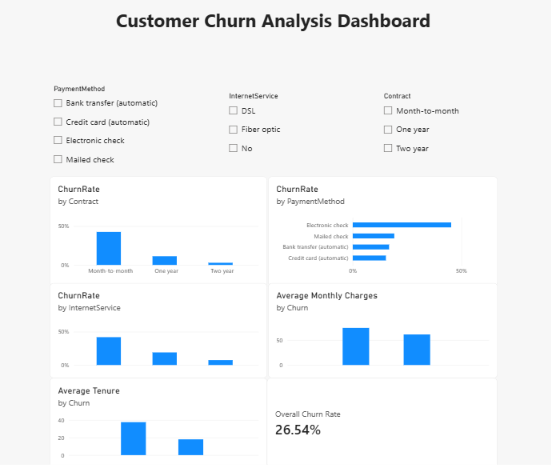

The page's visual inventory and layout, read from the dashboard file:
{"tool":"powerbi","page":{"name":"Page 1","canvas":[1920,1080],"ordinal":0},"visuals":[{"type":"clusteredColumnChart","fields":{"Y":["customer_churn.ChurnRate"],"Category":["customer_churn.Contract"]},"box":[470.7,487.8,441.5,222],"z":0},{"type":"clusteredBarChart","fields":{"Y":["customer_churn.ChurnRate"],"Category":["customer_churn.PaymentMethod"]},"box":[912.2,487.8,465.9,222],"z":1000},{"type":"clusteredColumnChart","fields":{"Category":["customer_churn.InternetService"],"Y":["customer_churn.ChurnRate"]},"box":[470.7,704.9,441.5,192.7],"z":2000},{"type":"clusteredColumnChart","fields":{"Y":["customer_churn.Average Monthly Charges"],"Category":["customer_churn.Churn"]},"box":[912.2,704.9,465.9,192.7],"z":3000},{"type":"clusteredColumnChart","fields":{"Y":["customer_churn.Average Tenure"],"Category":["customer_churn.Churn"]},"box":[470.7,897.6,441.5,182.9],"z":4000},{"type":"actionButton","box":[0,0,100,40],"z":7000},{"type":"cardVisual","title":"customer churn analysis","fields":{"Data":["customer_churn.Overall Churn Rate"]},"box":[909.8,897.6,468.3,182.9],"z":7001},{"type":"slicer","fields":{"Values":["customer_churn.PaymentMethod"]},"box":[470.7,300,356.1,187.8],"z":7002},{"type":"slicer","fields":{"Values":["customer_churn.InternetService"]},"box":[826.8,317.1,312.2,170.7],"z":7003},{"type":"slicer","fields":{"Values":["customer_churn.Contract"]},"box":[1139,317.1,287.8,170.7],"z":7004},{"type":"textbox","box":[470.7,143.9,907.3,87.8],"z":7005}]}

Visuals, with their boxes on the page's 1920x1080 design canvas (x1, y1, x2, y2). These are canvas units, not pixel positions in the 551x465 screenshot, which may show the page scaled, cropped or inside an application window:
clusteredColumnChart - customer_churn.ChurnRate x customer_churn.Contract: {"x1": 471, "y1": 488, "x2": 912, "y2": 710}
clusteredBarChart - customer_churn.ChurnRate x customer_churn.PaymentMethod: {"x1": 912, "y1": 488, "x2": 1378, "y2": 710}
clusteredColumnChart - customer_churn.InternetService x customer_churn.ChurnRate: {"x1": 471, "y1": 705, "x2": 912, "y2": 898}
clusteredColumnChart - customer_churn.Average Monthly Charges x customer_churn.Churn: {"x1": 912, "y1": 705, "x2": 1378, "y2": 898}
clusteredColumnChart - customer_churn.Average Tenure x customer_churn.Churn: {"x1": 471, "y1": 898, "x2": 912, "y2": 1080}
actionButton: {"x1": 0, "y1": 0, "x2": 100, "y2": 40}
"customer churn analysis" cardVisual: {"x1": 910, "y1": 898, "x2": 1378, "y2": 1080}
slicer - customer_churn.PaymentMethod: {"x1": 471, "y1": 300, "x2": 827, "y2": 488}
slicer - customer_churn.InternetService: {"x1": 827, "y1": 317, "x2": 1139, "y2": 488}
slicer - customer_churn.Contract: {"x1": 1139, "y1": 317, "x2": 1427, "y2": 488}
textbox: {"x1": 471, "y1": 144, "x2": 1378, "y2": 232}
